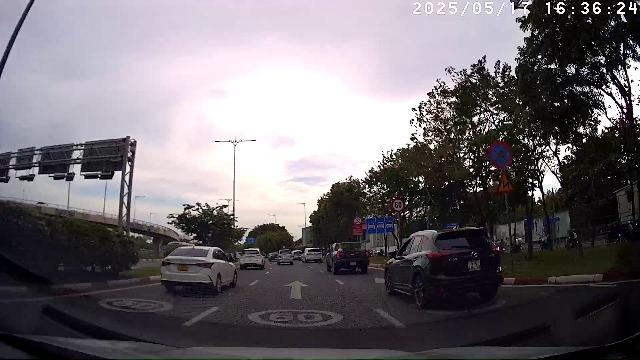127-toc-do-toi-da-60: (391, 198, 405, 212)
130-cam-dung-va-do-xe: (488, 141, 513, 168)
